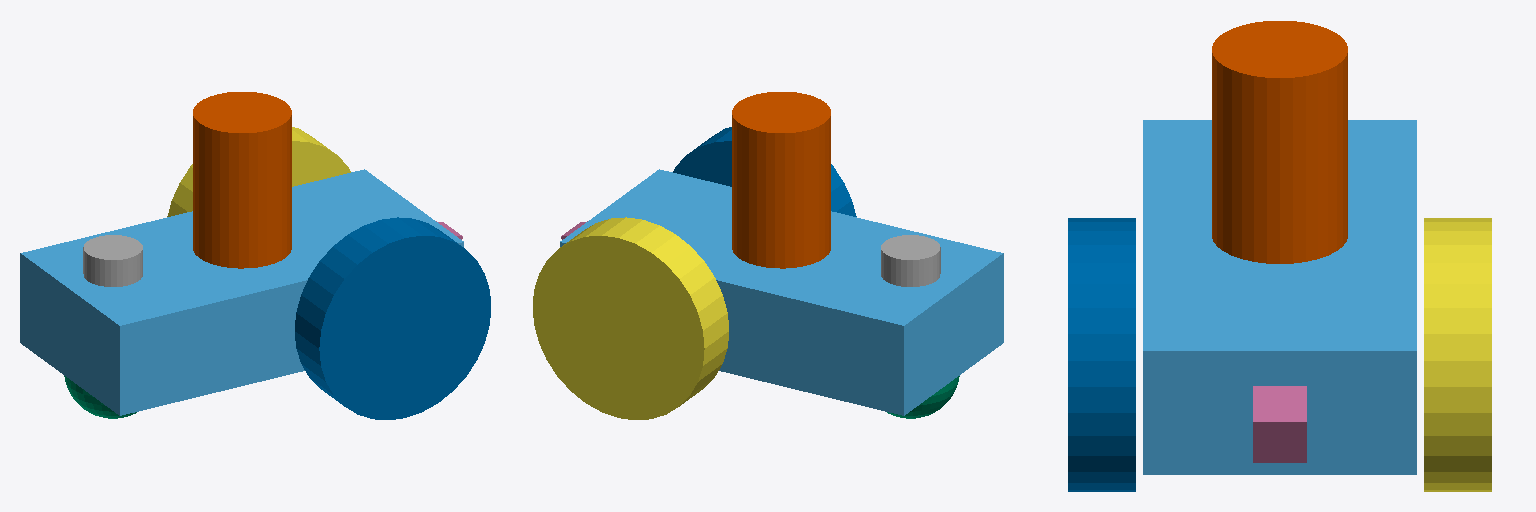
The robot description file, URDF, robot "monRobot":
<?xml version="1.0" ?>
<!-- =================================================================================== -->
<!-- |    This document was autogenerated by xacro from src/robot_description/urdf/robot.urdf.xacro | -->
<!-- |    EDITING THIS FILE BY HAND IS NOT RECOMMENDED                                 | -->
<!-- =================================================================================== -->
<robot name="monRobot" xmlns:xacro="http://ros.org/wiki/xacro">
  <gazebo reference="chassis">
    <material>Gazebo/DarkGrey</material>
  </gazebo>
  <gazebo reference="left_wheel">
    <mu1>1.2</mu1>
    <mu2>1.2</mu2>
    <kp>500000.0</kp>
    <kd>10.0</kd>
    <minDepth>0.001</minDepth>
    <maxVel>0.1</maxVel>
    <material>Gazebo/FlatBlack</material>
  </gazebo>
  <gazebo reference="right_wheel">
    <mu1>1.2</mu1>
    <mu2>1.2</mu2>
    <kp>500000.0</kp>
    <kd>10.0</kd>
    <minDepth>0.001</minDepth>
    <maxVel>0.1</maxVel>
    <material>Gazebo/FlatBlack</material>
  </gazebo>
  <gazebo reference="caster">
    <mu1>0.1</mu1>
    <mu2>0.1</mu2>
    <kp>1000000.0</kp>
    <kd>100.0</kd>
    <minDepth>0.001</minDepth>
    <maxVel>1.0</maxVel>
    <material>Gazebo/FlatBlack</material>
  </gazebo>
  <!-- Robot -->
  <link name="base_link"/>
  <!-- permet d'utiliser Move Base -->
  <joint name="base_joint" type="fixed">
    <parent link="base_link"/>
    <child link="chassis"/>
    <origin rpy="0 0 0" xyz="0 0 0.01"/>
  </joint>
  <!-- Chassis-->
  <link name="chassis">
    <collision>
      <origin rpy="0 0 0" xyz="0 0 .1"/>
      <geometry>
        <box size="0.4 0.2 0.1"/>
      </geometry>
    </collision>
    <visual>
      <origin rpy="0 0 0" xyz="0 0 .1"/>
      <geometry>
        <box size="0.4 0.2 0.1"/>
      </geometry>
    </visual>
    <inertial>
      <mass value="2.0"/>
      <inertia ixx="0.01" ixy="0.0" ixz="0.0" iyy="0.01" iyz="0.0" izz="0.01"/>
    </inertial>
  </link>
  <!-- Roue Libre-->
  <link name="caster">
    <collision>
      <geometry>
        <sphere radius="0.05"/>
      </geometry>
    </collision>
    <visual>
      <geometry>
        <sphere radius="0.05"/>
      </geometry>
    </visual>
    <inertial>
      <mass value="0.01"/>
      <inertia ixx="0.01" ixy="0.0" ixz="0.0" iyy="0.01" iyz="0.0" izz="0.01"/>
    </inertial>
  </link>
  <!-- Joint Chassis-Roue Libre-->
  <joint name="caster_to_chassis" type="fixed">
    <origin rpy="0 0 0" xyz="-0.15 0 0.05"/>
    <child link="caster"/>
    <parent link="chassis"/>
  </joint>
  <!-- Roue Gauche-->
  <link name="left_wheel">
    <collision>
      <origin rpy="0 1.5707 1.5707" xyz="0 0 0"/>
      <geometry>
        <cylinder length="0.05" radius="0.1"/>
      </geometry>
    </collision>
    <visual>
      <origin rpy="0 1.5707 1.5707" xyz="0 0 0"/>
      <geometry>
        <cylinder length="0.05" radius="0.1"/>
      </geometry>
    </visual>
    <inertial>
      <mass value="0.3"/>
      <inertia ixx="0.01" ixy="0.0" ixz="0.0" iyy="0.01" iyz="0.0" izz="0.01"/>
    </inertial>
  </link>
  <!-- Roue Droite-->
  <link name="right_wheel">
    <collision>
      <origin rpy="0 1.5707 1.5707" xyz="0 0 0"/>
      <geometry>
        <cylinder length="0.05" radius="0.1"/>
      </geometry>
    </collision>
    <visual>
      <origin rpy="0 1.5707 1.5707" xyz="0 0 0"/>
      <geometry>
        <cylinder length="0.05" radius="0.1"/>
      </geometry>
    </visual>
    <inertial>
      <mass value="0.3"/>
      <inertia ixx="0.01" ixy="0.0" ixz="0.0" iyy="0.01" iyz="0.0" izz="0.01"/>
    </inertial>
  </link>
  <!-- Joint Chassis-Roue Gauche-->
  <joint name="left_wheel_hinge" type="continuous">
    <origin rpy="0 0 0" xyz="0.1 0.13 0.1"/>
    <child link="left_wheel"/>
    <parent link="chassis"/>
    <axis xyz="0 1 0"/>
  </joint>
  <!-- Joint Chassis-Roue Gauche-->
  <joint name="right_wheel_hinge" type="continuous">
    <origin rpy="0 0 0" xyz="0.1 -0.13 0.1"/>
    <child link="right_wheel"/>
    <parent link="chassis"/>
    <axis xyz="0 1 0"/>
  </joint>
  <!-- Joint Chassis-Laser-->
  <joint name="hokuyo_joint" type="fixed">
    <axis xyz="0 1 0"/>
    <origin rpy="0 0 0" xyz="0 0 0.2"/>
    <parent link="chassis"/>
    <child link="hokuyo_link"/>
  </joint>
  <!-- Hokuyo Laser -->
  <link name="hokuyo_link">
    <collision>
      <origin rpy="0 0 0" xyz="0 0 0"/>
      <geometry>
        <cylinder length="0.2" radius="0.05"/>
      </geometry>
    </collision>
    <visual>
      <origin rpy="0 0 0" xyz="0 0 0"/>
      <geometry>
        <cylinder length="0.2" radius="0.05"/>
      </geometry>
    </visual>
    <inertial>
      <mass value="1e-5"/>
      <origin rpy="0 0 0" xyz="0 0 0"/>
      <inertia ixx="1e-6" ixy="0" ixz="0" iyy="1e-6" iyz="0" izz="1e-6"/>
    </inertial>
  </link>
  <!-- Plugin Hokuyo -->
  <gazebo reference="hokuyo_link">
    <sensor name="head_hokuyo_sensor" type="ray">
      <pose>0 0 0.5 0 0 0</pose>
      <visualize>true</visualize>
      <update_rate>2</update_rate>
      <ray>
        <scan>
          <horizontal>
            <samples>50</samples>
            <resolution>1</resolution>
            <min_angle>-3.1415</min_angle>
            <max_angle>3.1415</max_angle>
          </horizontal>
        </scan>
        <range>
          <min>0.10</min>
          <max>30.0</max>
          <resolution>0.01</resolution>
        </range>
        <noise>
          <type>gaussian</type>
          <!-- Noise parameters based on published spec for Hokuyo laser
               achieving "+-30mm" accuracy at range < 10m.  A mean of 0.0m and
               stddev of 0.01m will put 99.7% of samples within 0.03m of the true
               reading. -->
          <mean>0.0</mean>
          <stddev>0.01</stddev>
        </noise>
      </ray>
      <plugin filename="libgazebo_ros_laser.so" name="gazebo_ros_head_hokuyo_controller">
        <topicName>/scan</topicName>
        <frameName>hokuyo_link</frameName>
      </plugin>
    </sensor>
  </gazebo>
  <!-- joint Chassis-Camera -->
  <joint name="camera_joint" type="fixed">
    <origin rpy="0 0.3 0" xyz="0.22 0 0.1"/>
    <parent link="chassis"/>
    <child link="camera_link"/>
  </joint>
  <!-- Camera -->
  <link name="camera_link">
    <collision>
      <origin rpy="0 0 0" xyz="0 0 0"/>
      <geometry>
        <box size="0.04 0.04 0.04"/>
      </geometry>
    </collision>
    <visual>
      <origin rpy="0 0 0" xyz="0 0 0"/>
      <geometry>
        <box size="0.04 0.04 0.04"/>
      </geometry>
      <material name="red"/>
    </visual>
    <inertial>
      <mass value="1e-5"/>
      <origin rpy="0 0 0" xyz="0 0 0"/>
      <inertia ixx="1e-6" ixy="0" ixz="0" iyy="1e-6" iyz="0" izz="1e-6"/>
    </inertial>
  </link>
  <!-- Size of square 'camera' box -->
  <!-- Plugin Camera -->
  <gazebo reference="camera_link">
    <sensor name="camera1" type="camera">
      <update_rate>30.0</update_rate>
      <camera name="head">
        <horizontal_fov>1.3962634</horizontal_fov>
        <image>
          <width>800</width>
          <height>800</height>
          <format>R8G8B8</format>
        </image>
        <clip>
          <near>0.02</near>
          <far>300</far>
        </clip>
        <noise>
          <type>gaussian</type>
          <!-- Noise is sampled independently per pixel on each frame.
               That pixel's noise value is added to each of its color
               channels, which at that point lie in the range [0,1]. -->
          <mean>0.0</mean>
          <stddev>0.007</stddev>
        </noise>
      </camera>
      <plugin filename="libgazebo_ros_camera.so" name="camera_controller">
        <alwaysOn>true</alwaysOn>
        <updateRate>0.0</updateRate>
        <cameraName>rrbot/camera1</cameraName>
        <imageTopicName>image_raw</imageTopicName>
        <cameraInfoTopicName>camera_info</cameraInfoTopicName>
        <frameName>camera_link</frameName>
        <hackBaseline>0.07</hackBaseline>
        <distortionK1>0.0</distortionK1>
        <distortionK2>0.0</distortionK2>
        <distortionK3>0.0</distortionK3>
        <distortionT1>0.0</distortionT1>
        <distortionT2>0.0</distortionT2>
      </plugin>
    </sensor>
  </gazebo>
  <!-- Joint Chassis-GPS-->
  <joint name="gps_joint" type="fixed">
    <axis xyz="0 0 0"/>
    <origin rpy="0 0 0" xyz="-0.15 0 0.17"/>
    <parent link="chassis"/>
    <child link="gps_link"/>
  </joint>
  <!-- GPS -->
  <link name="gps_link">
    <collision>
      <origin rpy="0 0 0" xyz="0 0 0"/>
      <geometry>
        <cylinder length="0.03" radius="0.03"/>
      </geometry>
    </collision>
    <visual>
      <origin rpy="0 0 0" xyz="0 0 0"/>
      <geometry>
        <cylinder length="0.03" radius="0.03"/>
      </geometry>
    </visual>
    <inertial>
      <mass value="1e-5"/>
      <origin rpy="0 0 0" xyz="0 0 0"/>
      <inertia ixx="1e-6" ixy="0" ixz="0" iyy="1e-6" iyz="0" izz="1e-6"/>
    </inertial>
  </link>
  <!-- Plugin GPS -->
  <gazebo>
    <plugin filename="libhector_gazebo_ros_gps.so" name="novatel_gps_sim">
      <alwaysOn>1</alwaysOn>
      <updateRate>19.9</updateRate>
      <bodyName>base_link</bodyName>
      <veloctyTopicName>fix_velocity</veloctyTopicName>
      <drift>5.0 5.0 5.0</drift>
      <gaussianNoise>0.1 0.1 0.1</gaussianNoise>
      <velocityDrift>0 0 0</velocityDrift>
      <velocityGaussianNoise>0.1 0.1 0.1</velocityGaussianNoise>
    </plugin>
  </gazebo>
  <!-- Controllers -->
  <gazebo>
    <plugin filename="libgazebo_ros_diff_drive.so" name="wheels_controller">
      <commandTopic>cmd_vel</commandTopic>
      <odometryTopic>odom</odometryTopic>
      <odometryFrame>odom</odometryFrame>
      <odometrySource>world</odometrySource>
      <publishOdomTF>true</publishOdomTF>
      <!-- ENTER BASE LINK NAME -->
      <robotBaseFrame>base_link</robotBaseFrame>
      <publishWheelTF>false</publishWheelTF>
      <publishTf>true</publishTf>
      <publishWheelJointState>true</publishWheelJointState>
      <legacyMode>false</legacyMode>
      <updateRate>30</updateRate>
      <!-- ENTER LEFT JOINT NAME -->
      <leftJoint>left_wheel_hinge</leftJoint>
      <!-- ENTER RIGHT JOINT NAME -->
      <rightJoint>right_wheel_hinge</rightJoint>
      <wheelSeparation>0.31</wheelSeparation>
      <wheelDiameter>0.1</wheelDiameter>
      <wheelAcceleration>0.1</wheelAcceleration>
      <wheelTorque>10</wheelTorque>
      <rosDebugLevel>na</rosDebugLevel>
    </plugin>
  </gazebo>
</robot>

--- What the picture shows (computed from the rendered views, not written in the file) ---
Views: 3 orthographic renders of the robot side by side, from view 1: azimuth 30°, elevation 25°; view 2: azimuth 150°, elevation 25°; view 3: azimuth 270°, elevation 25°.
Model monRobot with 8 links and 7 joints (2 continuous, 5 fixed), rooted at base_link, posed all joints at 0.
Visible links, largest first — view 1: chassis, right_wheel, hokuyo_link, left_wheel, gps_link, caster; view 2: chassis, left_wheel, hokuyo_link, right_wheel, gps_link, caster; view 3: chassis, hokuyo_link, left_wheel, right_wheel, camera_link.
Link boxes in pixels (left/top/right/bottom): chassis: left=20, top=169, right=463, bottom=415; right_wheel: left=295, top=217, right=490, bottom=419; hokuyo_link: left=193, top=92, right=291, bottom=268; left_wheel: left=167, top=127, right=350, bottom=216; gps_link: left=83, top=235, right=142, bottom=286; caster: left=64, top=376, right=136, bottom=418; chassis: left=560, top=169, right=1003, bottom=415; left_wheel: left=533, top=217, right=728, bottom=419; hokuyo_link: left=732, top=92, right=830, bottom=268; right_wheel: left=673, top=127, right=856, bottom=216; gps_link: left=881, top=235, right=940, bottom=286; caster: left=887, top=376, right=959, bottom=418; chassis: left=1143, top=120, right=1416, bottom=474; hokuyo_link: left=1212, top=21, right=1347, bottom=263; left_wheel: left=1424, top=218, right=1491, bottom=491; right_wheel: left=1068, top=218, right=1135, bottom=491; camera_link: left=1253, top=386, right=1306, bottom=462.
Bounding box of the posed robot: 0.445 × 0.31 × 0.3 m (x, y, z).
Geometry: primitives only (box / cylinder / sphere), no mesh files.
